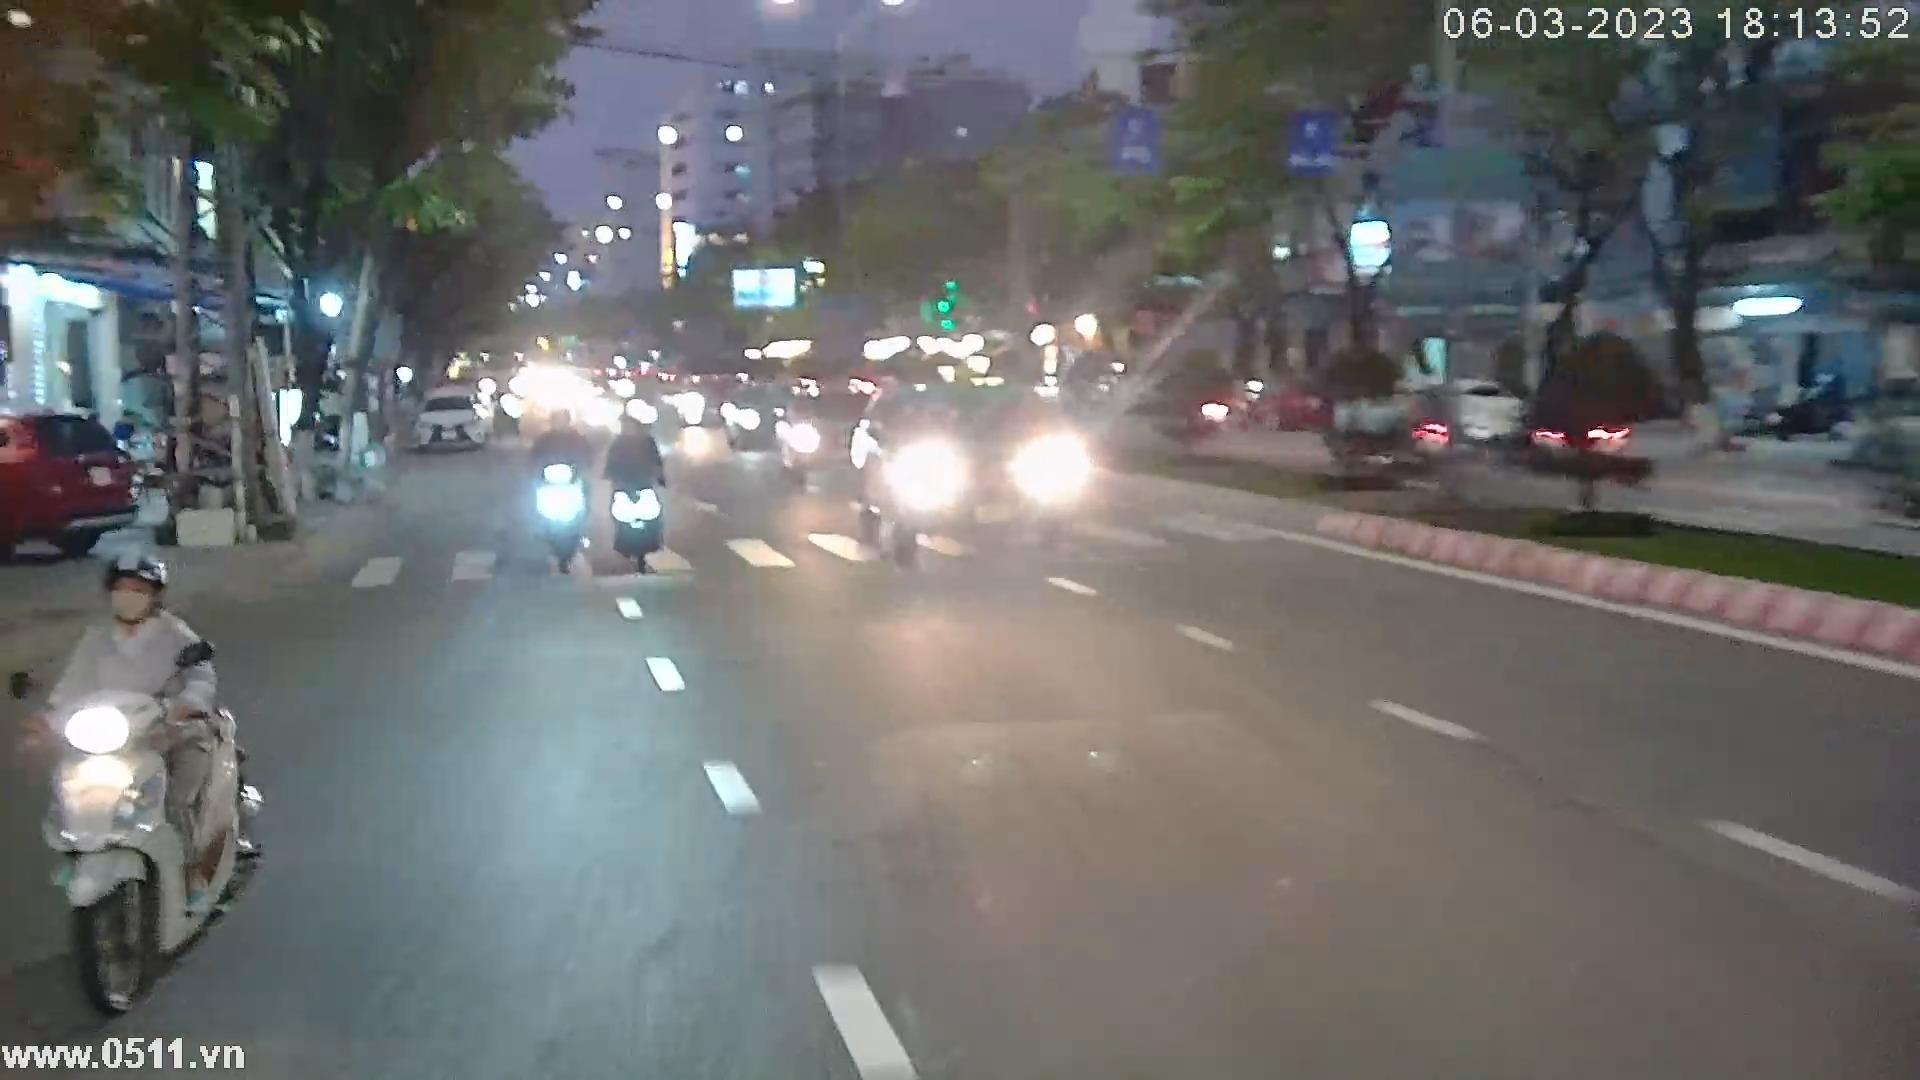car: (852, 384, 1084, 559), (0, 409, 154, 560), (1331, 367, 1526, 454), (414, 378, 505, 458)
motorcycle: (0, 538, 277, 1022), (603, 402, 670, 580), (527, 398, 592, 582), (770, 376, 820, 488)
